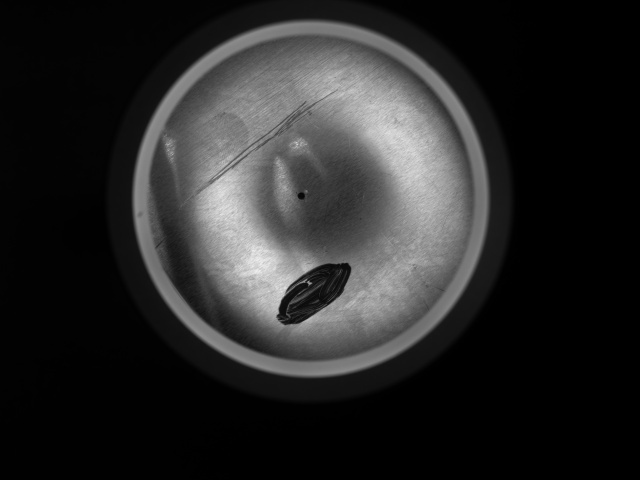ca_shang: (166, 80, 345, 218)
zang_wu: (268, 259, 359, 326)
zhen_kong: (293, 186, 308, 202)
